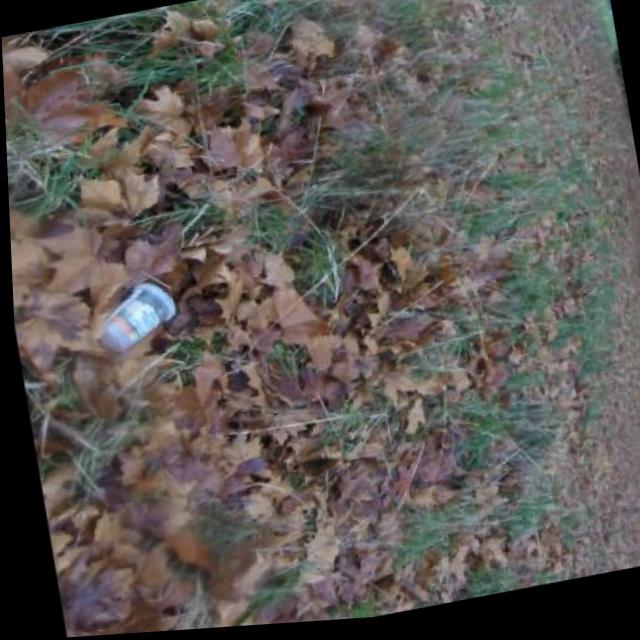plastic: (87, 278, 180, 358)
